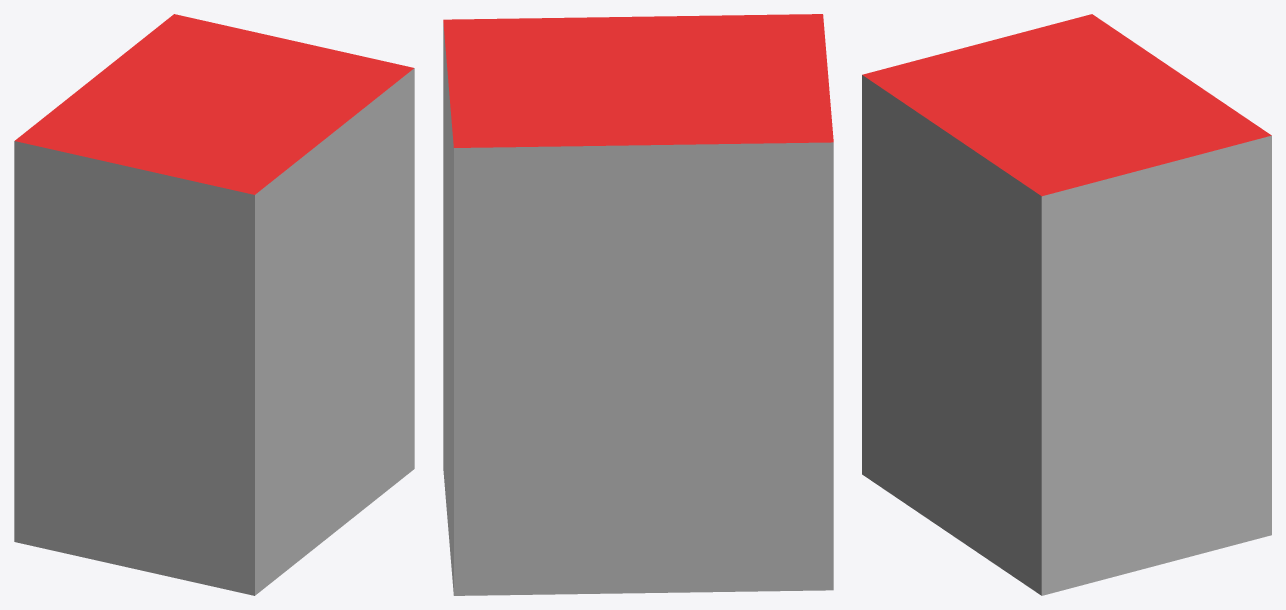
The model's file is ID_0f4c0ebb-4c3c-4f5b-a8e1-1bdfe09a66d2.dae.
The picture shows the model from 3 angles, left to right: view 1: azimuth 30°, elevation 25°; view 2: azimuth 150°, elevation 25°; view 3: azimuth 270°, elevation 25°; orthographic projection. The views are drawn at different scales.
Size of the model in its own units: 12.72 by 12.08 by 13.
